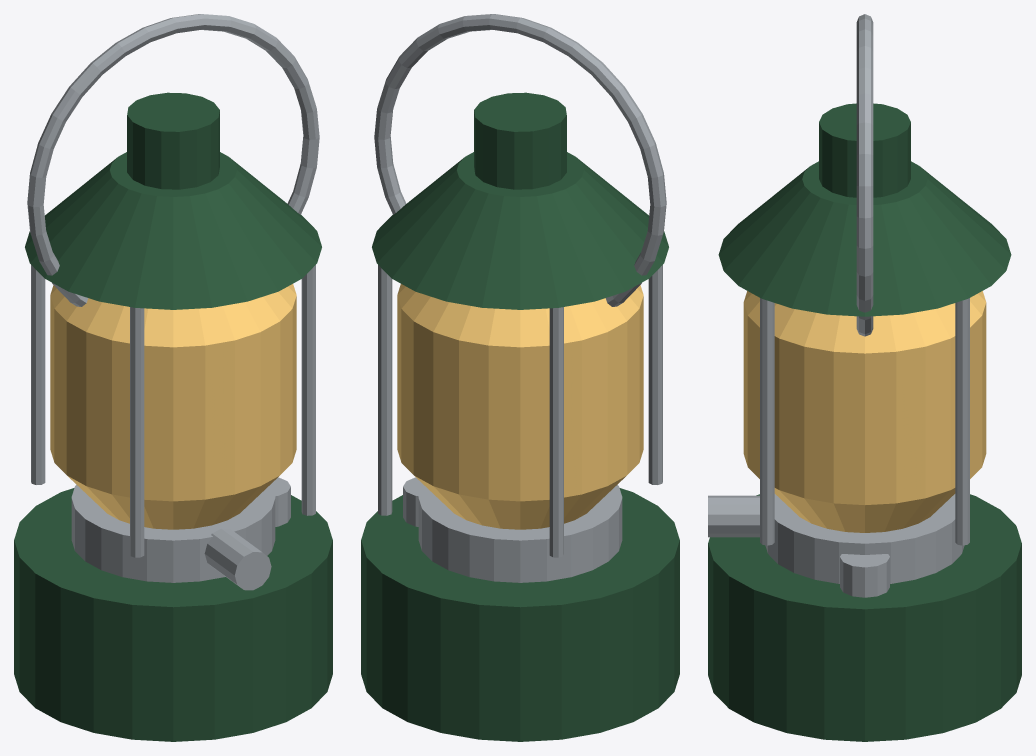
The model's file is prop_oil_lantern.glb.
3 renders of one model, left to right at view 1: azimuth 30°, elevation 25°; view 2: azimuth 150°, elevation 25°; view 3: azimuth 270°, elevation 25°, orthographic.
Visible parts, largest first — view 1: fuel_tank, lamp_globe, top_cap, wire_bail, burner_collar, chimney_vent, lamp_globe_top, lamp_globe_base, guard_wire_3, guard_wire_4, guard_wire_2, wick_knob (+1 smaller); view 2: fuel_tank, lamp_globe, top_cap, burner_collar, wire_bail, chimney_vent, lamp_globe_top, lamp_globe_base, guard_wire_2, guard_wire_1, guard_wire_3, filler_cap; view 3: fuel_tank, lamp_globe, top_cap, burner_collar, lamp_globe_top, chimney_vent, wire_bail, lamp_globe_base, guard_wire_1, guard_wire_4, wick_knob, filler_cap.
Part boxes in pixels (x1,y1,x2,y2): fuel_tank: [14, 488, 332, 741]; lamp_globe: [50, 296, 296, 501]; top_cap: [25, 152, 321, 309]; wire_bail: [27, 14, 319, 306]; burner_collar: [71, 485, 275, 582]; chimney_vent: [127, 92, 219, 189]; lamp_globe_top: [50, 284, 296, 347]; lamp_globe_base: [68, 476, 278, 529]; guard_wire_3: [130, 307, 144, 557]; guard_wire_4: [301, 265, 315, 515]; guard_wire_2: [31, 265, 45, 484]; wick_knob: [204, 528, 271, 590]; fuel_tank: [361, 488, 679, 741]; lamp_globe: [397, 296, 643, 501]; top_cap: [372, 152, 668, 309]; burner_collar: [418, 485, 622, 582]; wire_bail: [374, 14, 666, 306]; chimney_vent: [474, 92, 566, 189]; lamp_globe_top: [397, 284, 643, 347]; lamp_globe_base: [415, 476, 625, 529]; guard_wire_2: [549, 307, 563, 557]; guard_wire_1: [378, 265, 392, 515]; guard_wire_3: [648, 265, 662, 484]; filler_cap: [403, 477, 423, 526]; fuel_tank: [708, 494, 1021, 741]; lamp_globe: [743, 303, 986, 504]; top_cap: [718, 161, 1011, 316]; burner_collar: [765, 494, 964, 583]; lamp_globe_top: [743, 291, 986, 353]; chimney_vent: [819, 103, 910, 197]; wire_bail: [856, 14, 873, 336]; lamp_globe_base: [774, 488, 955, 532]; guard_wire_1: [955, 298, 969, 545]; guard_wire_4: [760, 298, 774, 545]; wick_knob: [708, 495, 759, 537]; filler_cap: [840, 554, 889, 597].
Size of the model in its own units: 0.158 by 0.341 by 0.15.
